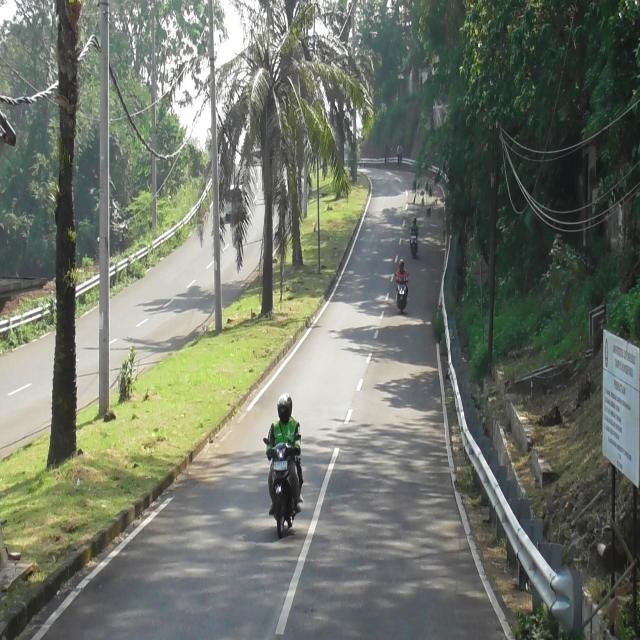motorcycle: (264, 439, 299, 538), (395, 273, 409, 312), (410, 230, 418, 259)
person: (266, 395, 300, 513), (290, 397, 303, 502), (396, 259, 409, 282), (410, 215, 419, 233)
rider_region: (267, 394, 303, 539), (395, 260, 409, 309), (408, 213, 418, 257)
